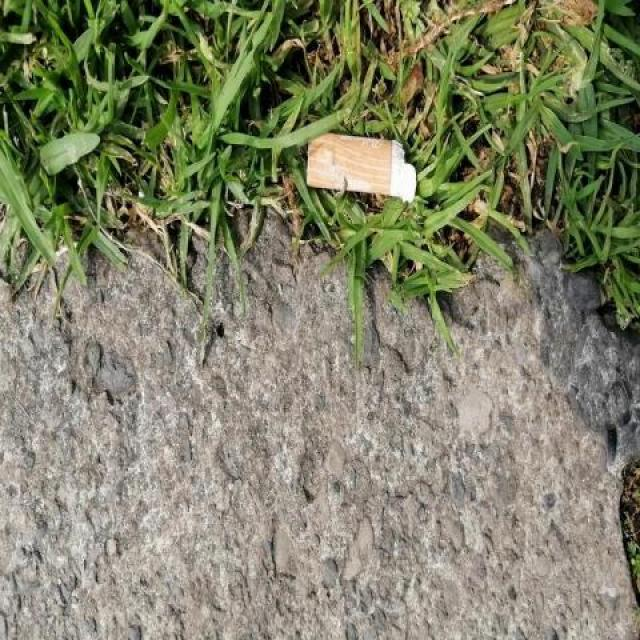non-organic waste: (303, 127, 421, 205)
